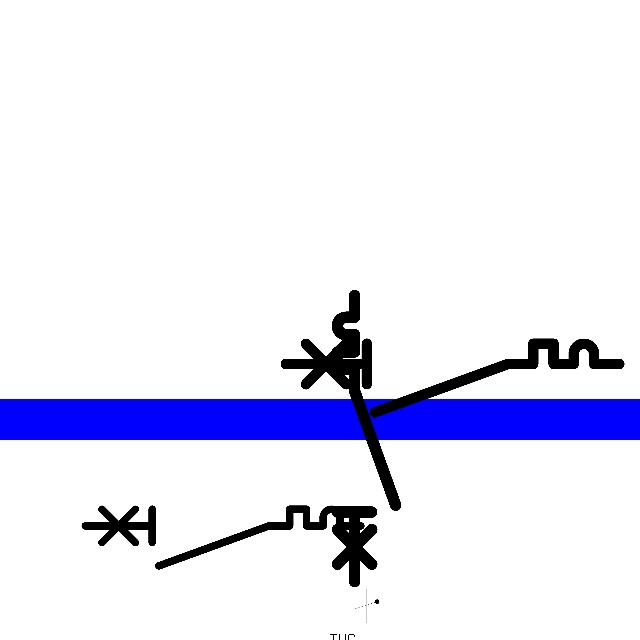interruptor_termomagnetico: (277, 335, 628, 421), (330, 288, 403, 589), (78, 502, 368, 573)
